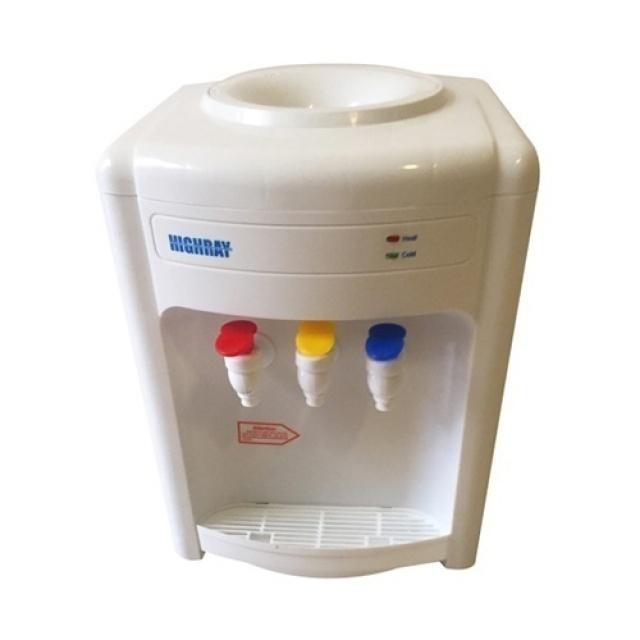Dispenser: (94, 62, 540, 577)
